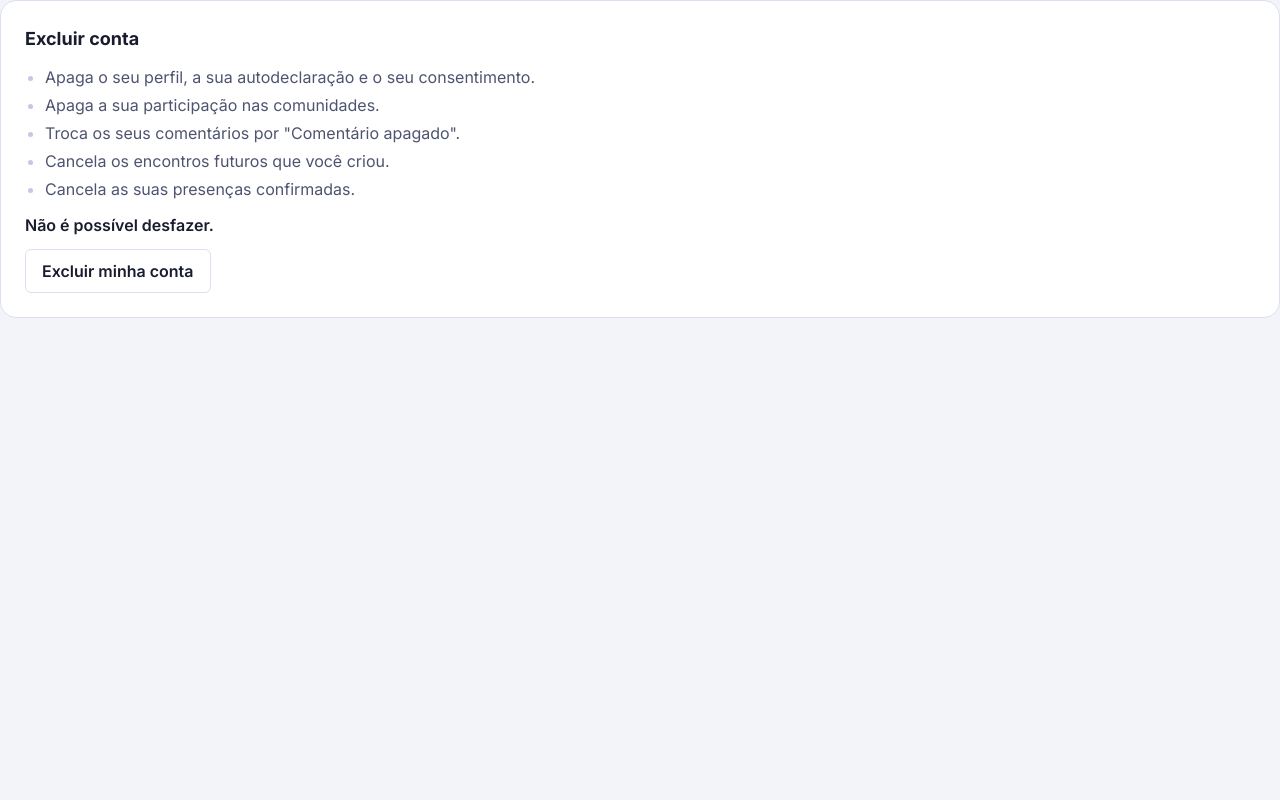
tela /conta › pede confirmação explícita com verbo literal antes de excluir
Later steps or results of the test are not shown.
Click the button "Excluir minha conta" at (118, 271), box [25, 249, 210, 293]
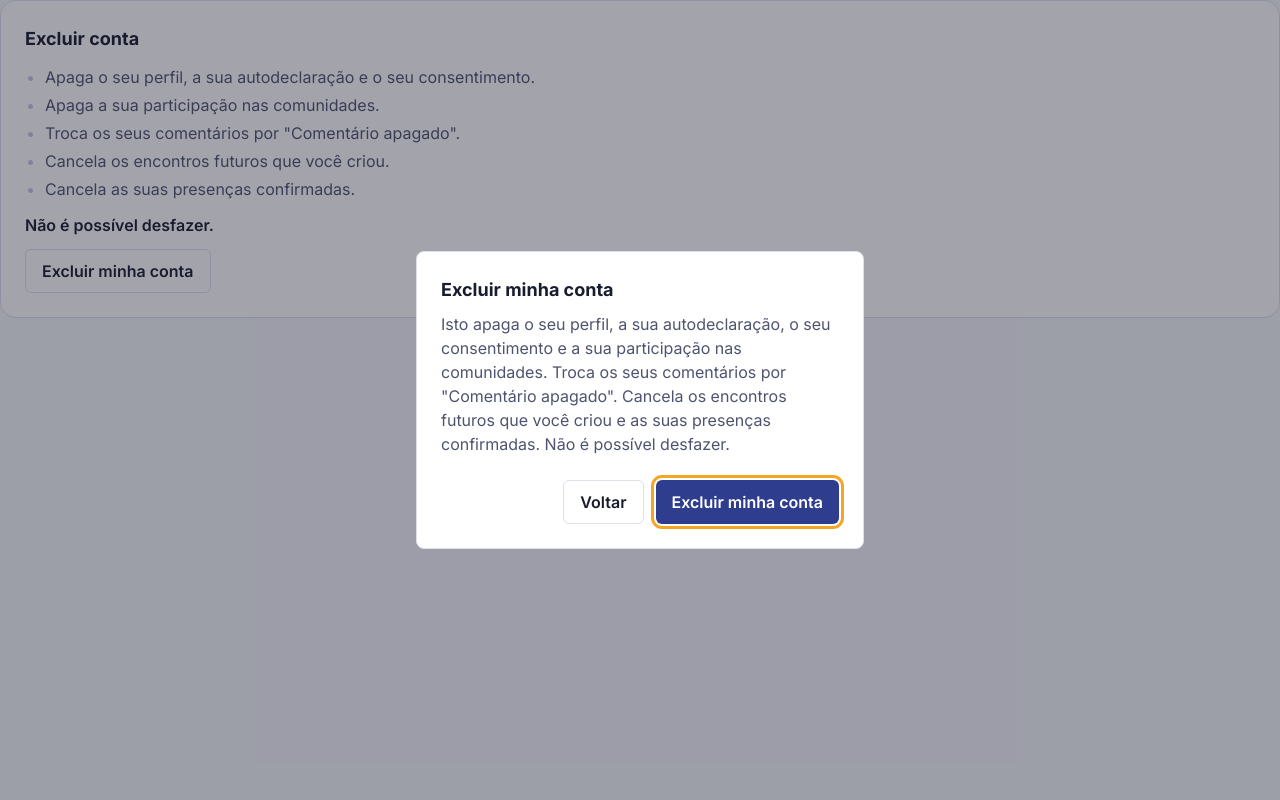
Now the dialog shows "Excluir minha conta", box [441, 279, 614, 300]
